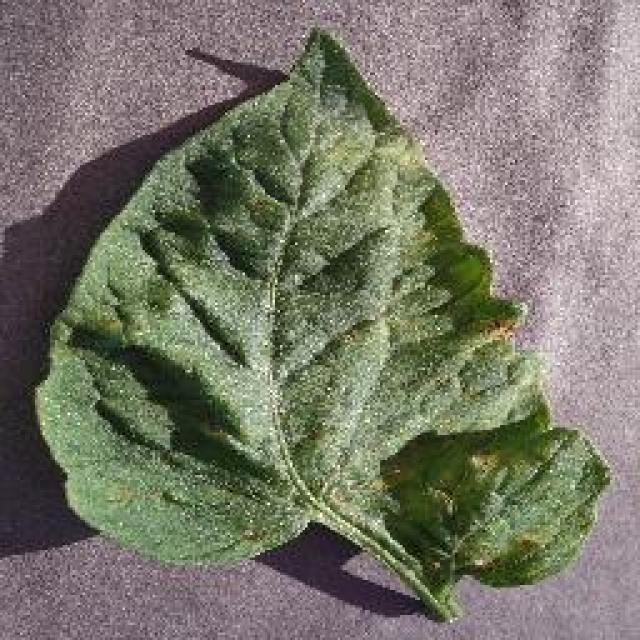Tomato Septoria spot leaf: (36, 29, 612, 614)
